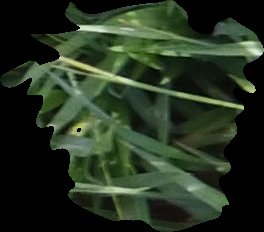grass: (1, 1, 263, 231)
